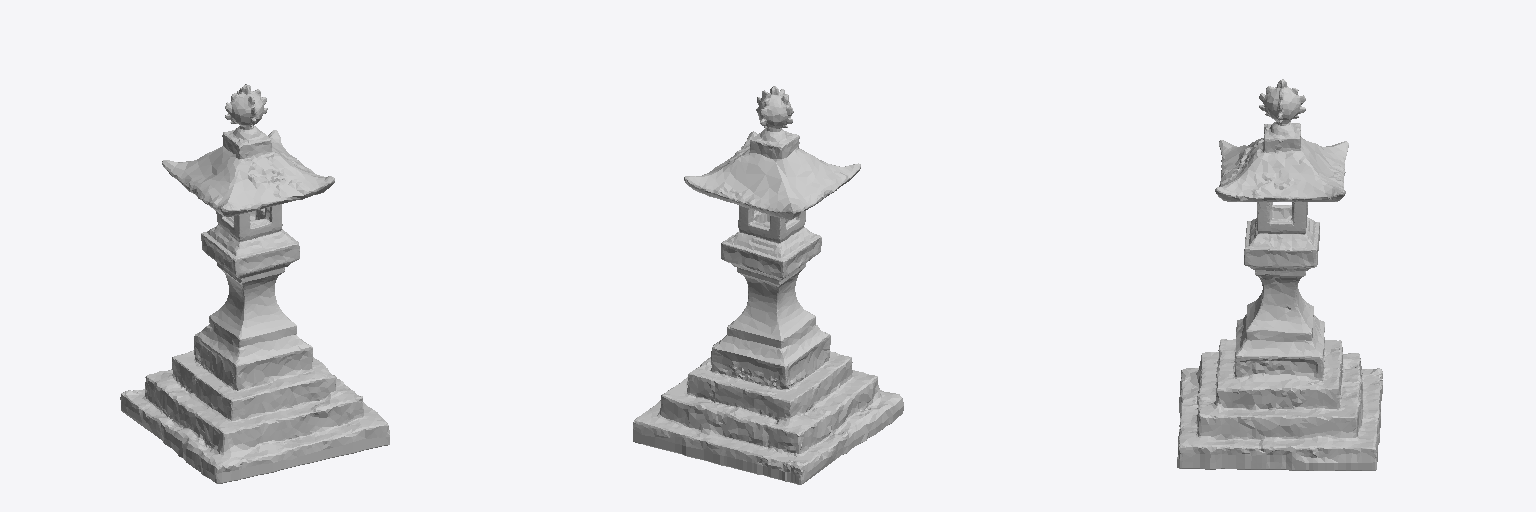
File: ufnscjdga_LOD0.obj
The picture shows the model from 3 angles: view 1: azimuth 30°, elevation 25°; view 2: azimuth 150°, elevation 25°; view 3: azimuth 270°, elevation 25°; orthographic projection.
Parts seen in each view (by area): view 1: ufnscjdga_LOD0; view 2: ufnscjdga_LOD0; view 3: ufnscjdga_LOD0.
Part boxes in pixels (bbox=[...]): ufnscjdga_LOD0: bbox=[120, 84, 389, 483]; ufnscjdga_LOD0: bbox=[633, 86, 903, 484]; ufnscjdga_LOD0: bbox=[1177, 79, 1382, 470].
Bounding box in the file's own units: 2.1 × 3.87 × 2.09.